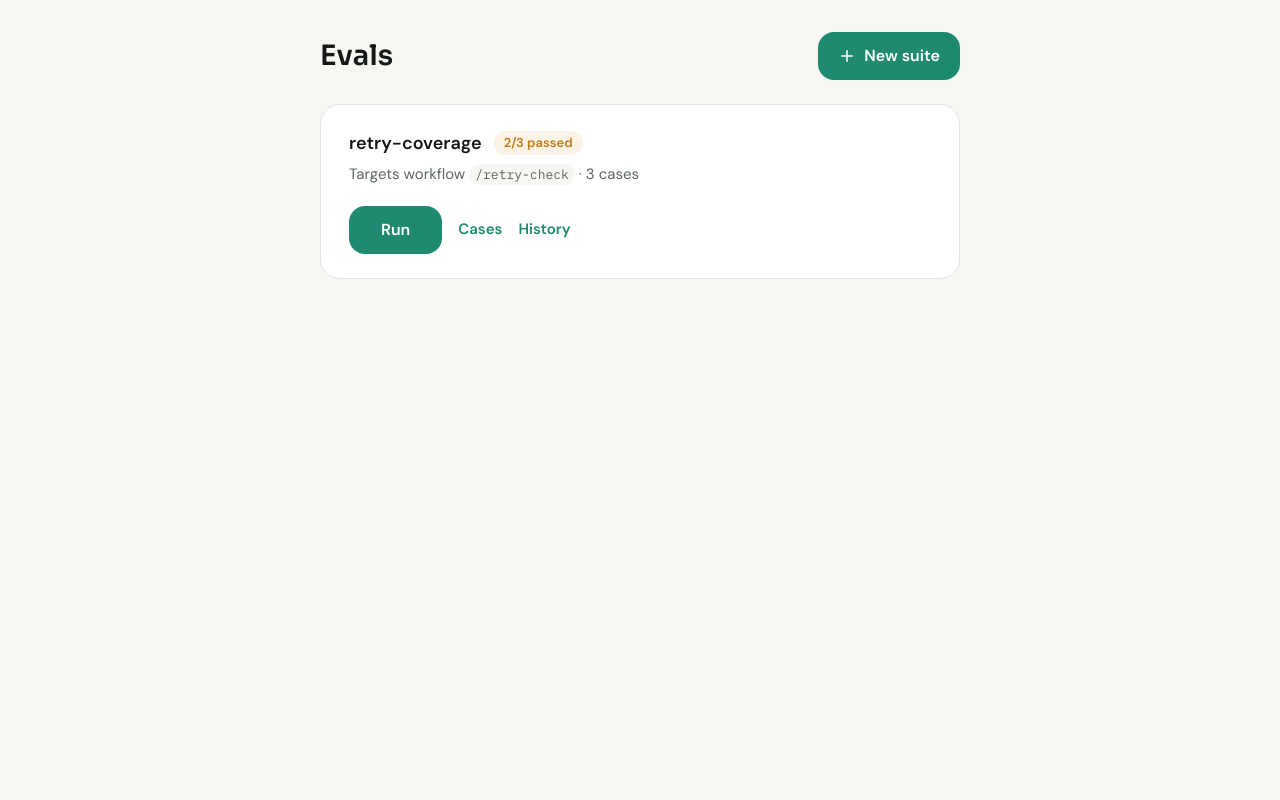
Test: evals/+page.svelte › opens cases in a sheet with plain-language judge labels
Click the button "Cases" at (480, 230), box [458, 218, 502, 241]
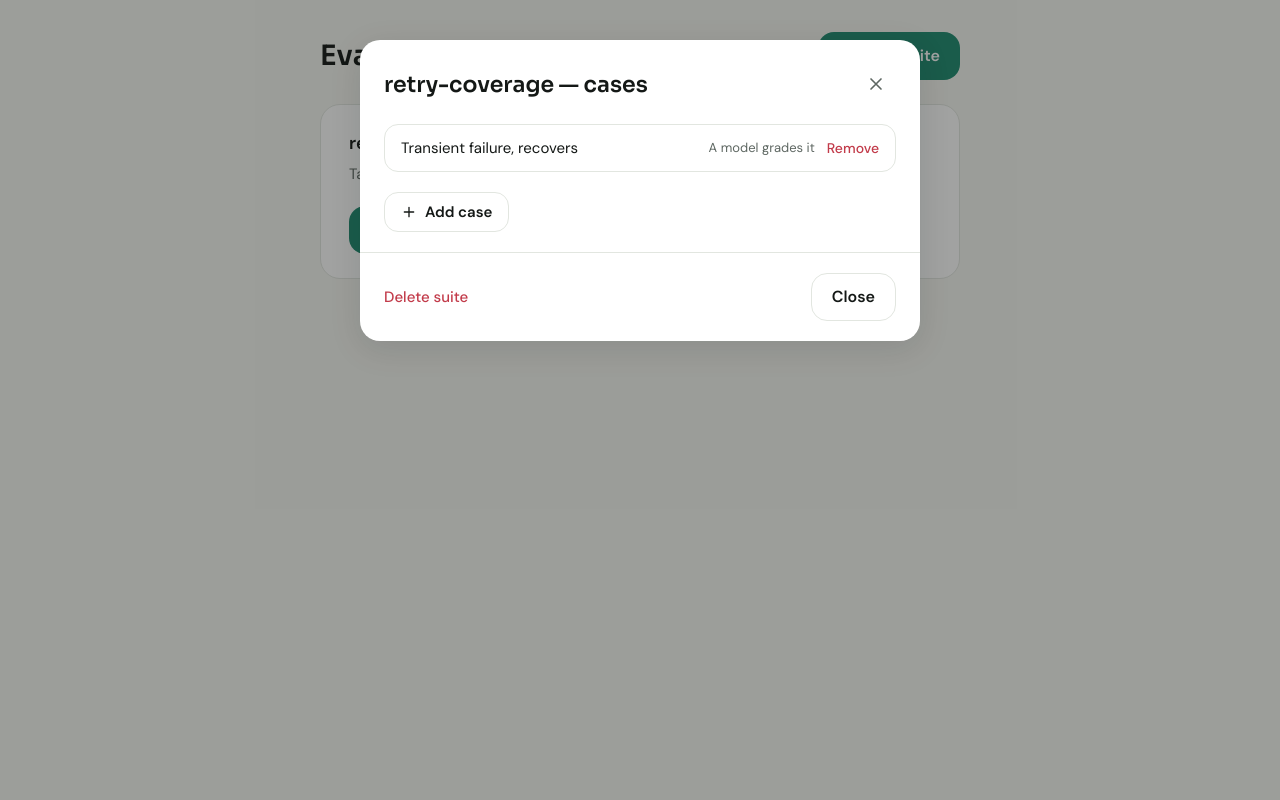
Now the text "Transient failure, recovers" is shown, box [401, 137, 578, 159]
Now the text "A model grades it" is shown, box [709, 138, 815, 158]
